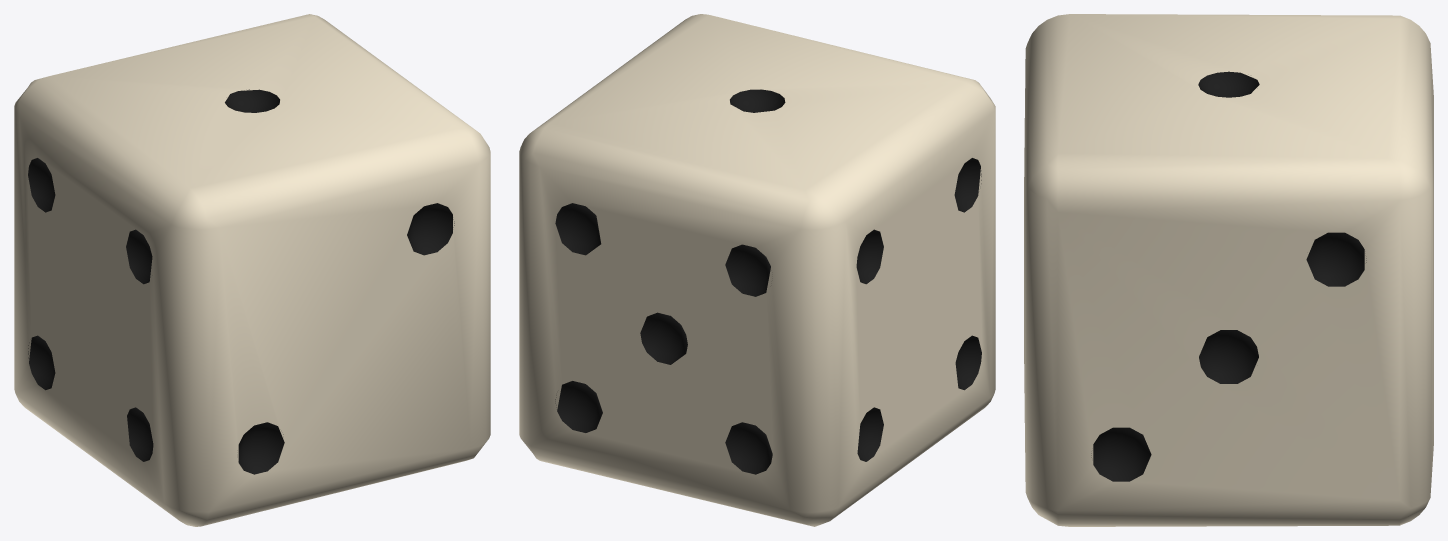
The model's file is dice_lo.glb.
The picture shows the model from 3 angles, left to right: view 1: azimuth 30°, elevation 25°; view 2: azimuth 150°, elevation 25°; view 3: azimuth 270°, elevation 25°; orthographic projection. The views are drawn at different scales.
Parts seen in each view (by area): view 1: dice; view 2: dice; view 3: dice.
Boxes of the visible parts, x1=… form: dice: x1=14, y1=14, x2=490, y2=526; dice: x1=519, y1=14, x2=995, y2=526; dice: x1=1024, y1=14, x2=1433, y2=526.
Bounding box in the file's own units: 0.16 × 0.16 × 0.16.
